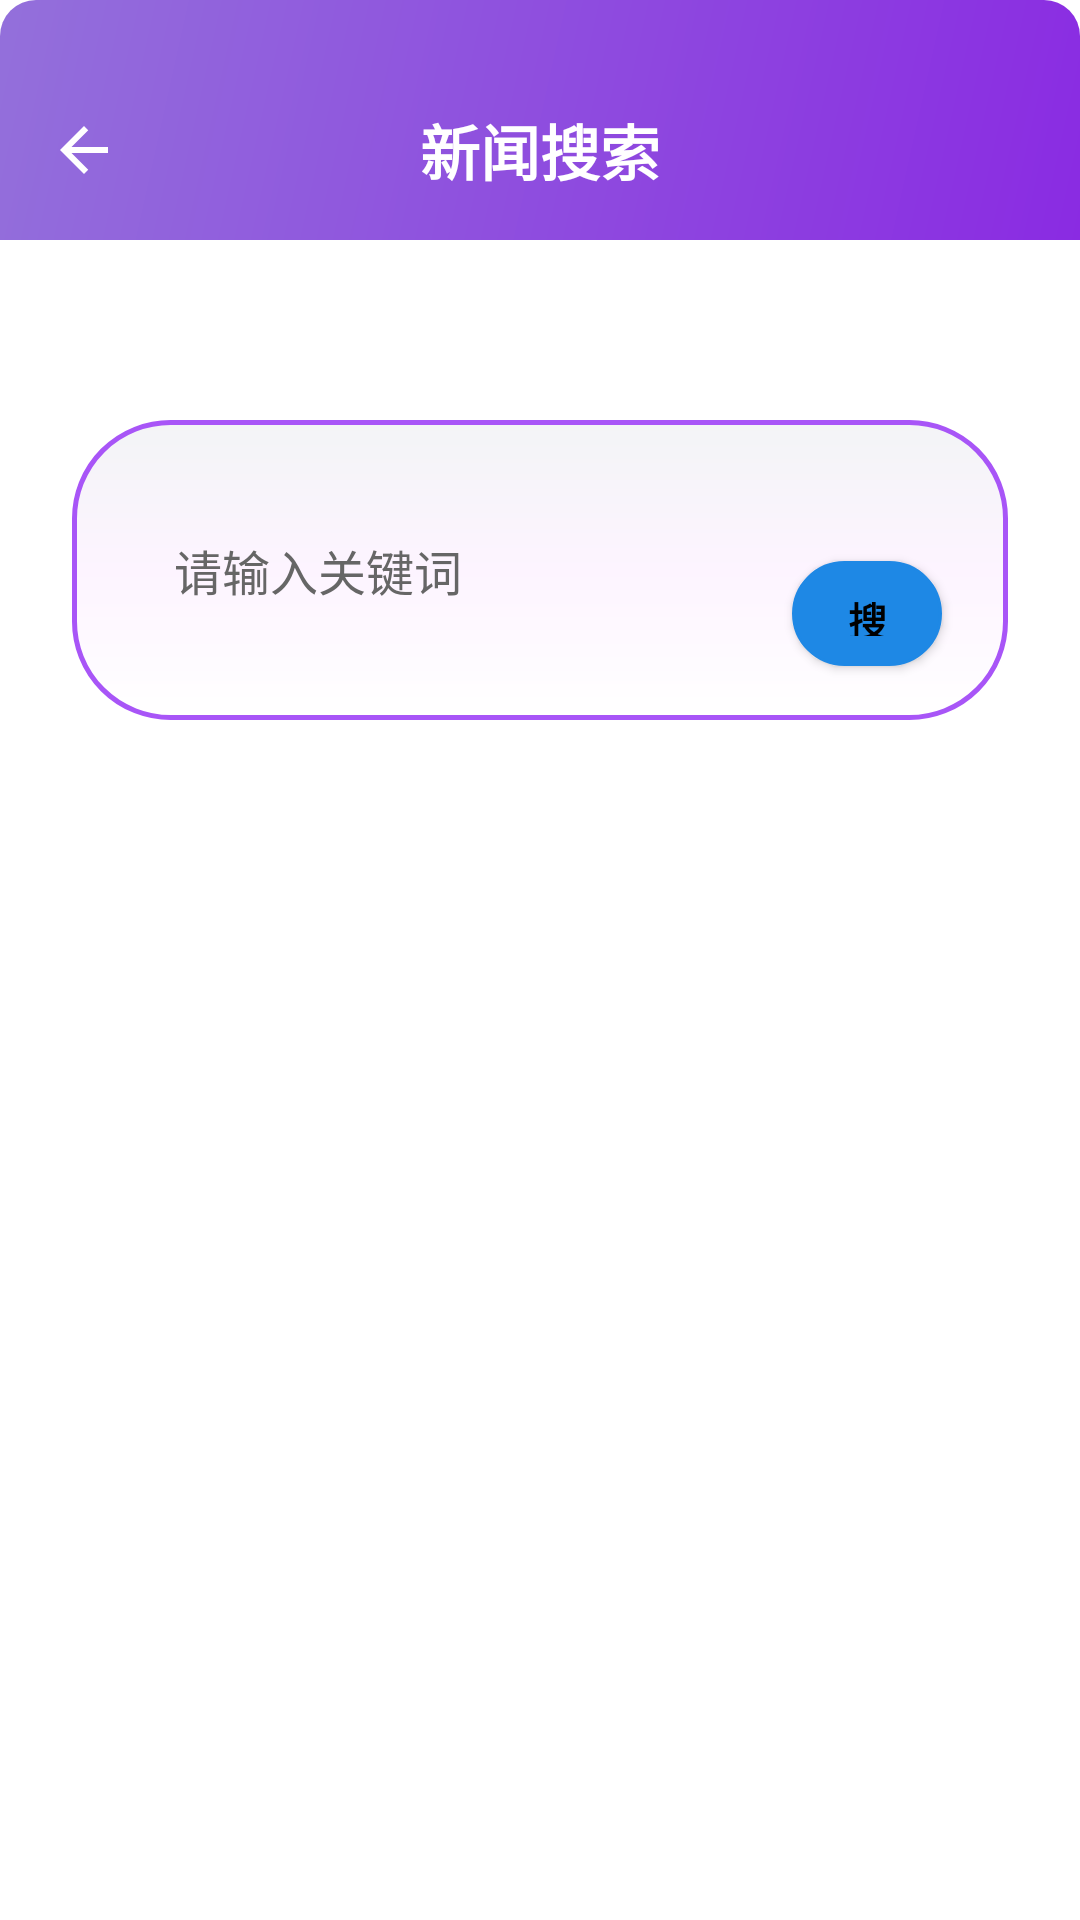

Screen size 1080px x 1920px. Icon name, then its box in pixels as box=[x1, y1, x2, y2]:
arrow back: box=[60, 126, 108, 174]
